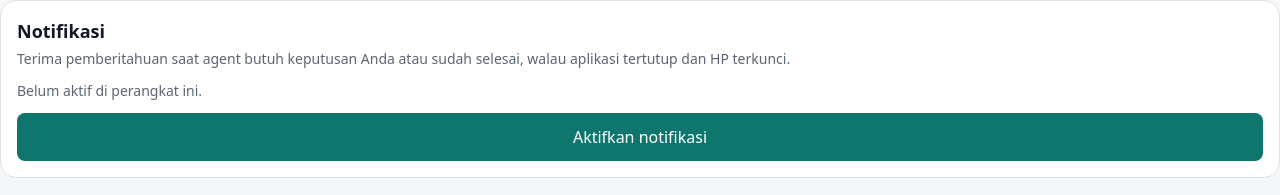
NotificationsSection › gagal saat mengaktifkan: pesan galat dan tombol Coba lagi, tidak dianggap aktif
What coordinates should you click on to do the following:
click the button "Aktifkan notifikasi"
I would click on:
 (640, 137)
Its box is [17,113,1263,161].
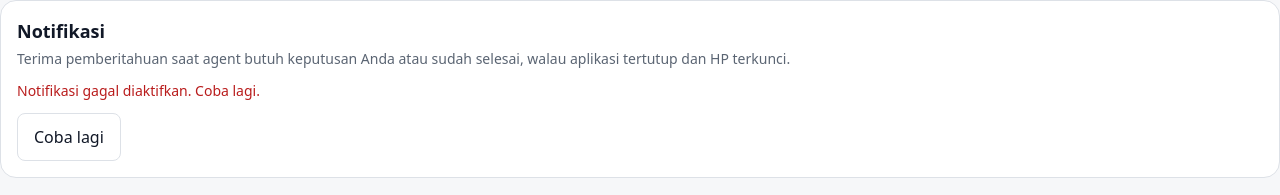
Now the text "Notifikasi gagal diaktifkan. Coba lagi." is shown, box [17,81,260,100]
Now the text "aktif di perangkat ini." is gone
Now the button "Coba lagi" is shown, box [17,113,121,161]
